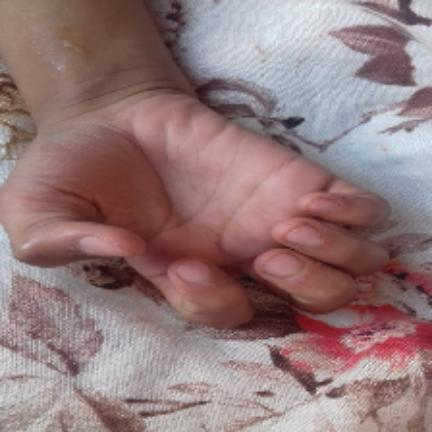Nail: (265, 252, 304, 277), (80, 236, 126, 257), (176, 259, 211, 284), (285, 226, 320, 245), (305, 202, 336, 218)
